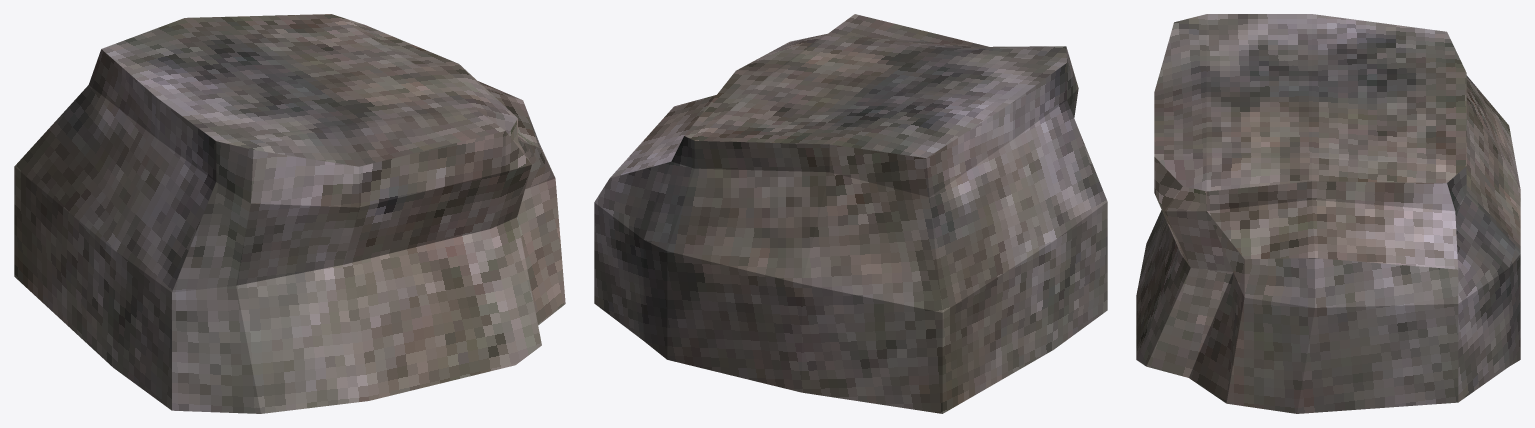
Rendered from sm_rock_3.gltf.
3 renders of one model, left to right at view 1: azimuth 30°, elevation 25°; view 2: azimuth 150°, elevation 25°; view 3: azimuth 270°, elevation 25°, orthographic. The views are drawn at different scales.
Visible parts, largest first — view 1: Cube; view 2: Cube; view 3: Cube.
Boxes of the visible parts, left/top/right/bottom form: Cube: left=14, top=14, right=565, bottom=413; Cube: left=594, top=14, right=1107, bottom=413; Cube: left=1136, top=14, right=1520, bottom=413.
Bounding box in the file's own units: 2.84 × 1.64 × 2.46.
Materials: 1 (1 with a texture image).
